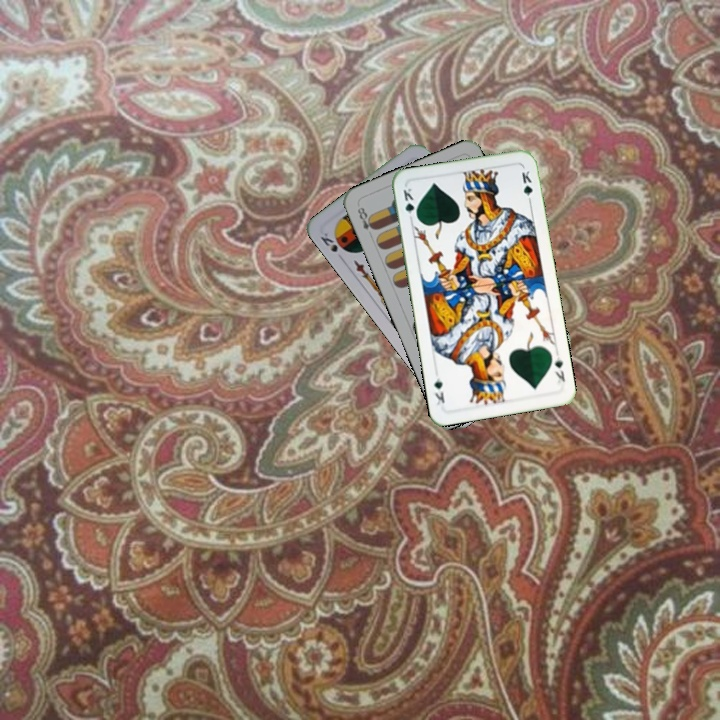E8: (353, 203, 378, 233)
GK: (399, 184, 420, 224), (551, 349, 568, 385)
SK: (316, 228, 349, 255)
